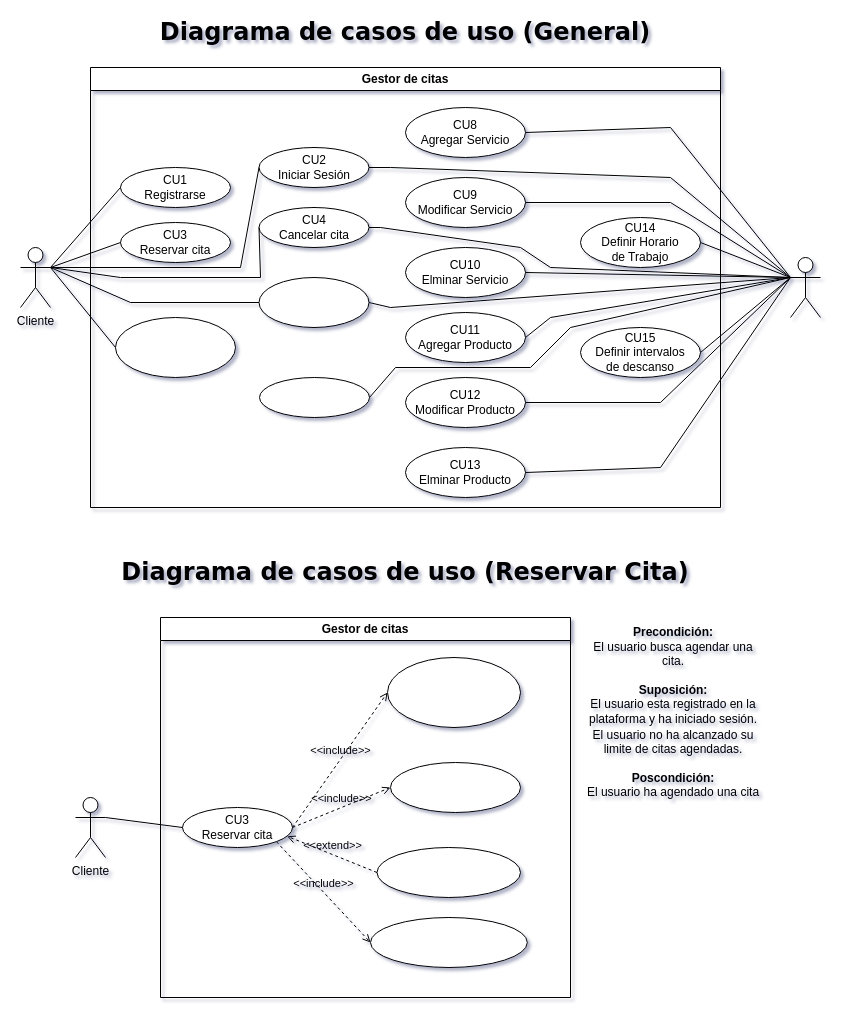
This 866x1021 diagram has some shape labels left out. Each missing label, with the box of its shape:
Administrador: (790, 256, 820, 318)
CU3.1 Verificar disponibilidad de fecha y hora: (386, 656, 520, 728)
CU3.2 Seleccionar servicios: (390, 762, 520, 812)
CU3.3 Seleccionar productos: (376, 846, 520, 898)
CU3.4 Notificar al Administrador: (370, 916, 527, 968)
CU5 Ver historial de citas: (258, 276, 369, 328)
CU6 Modificar sus Datos: (114, 316, 236, 378)
CU7 Confirmar cita: (258, 376, 370, 418)
